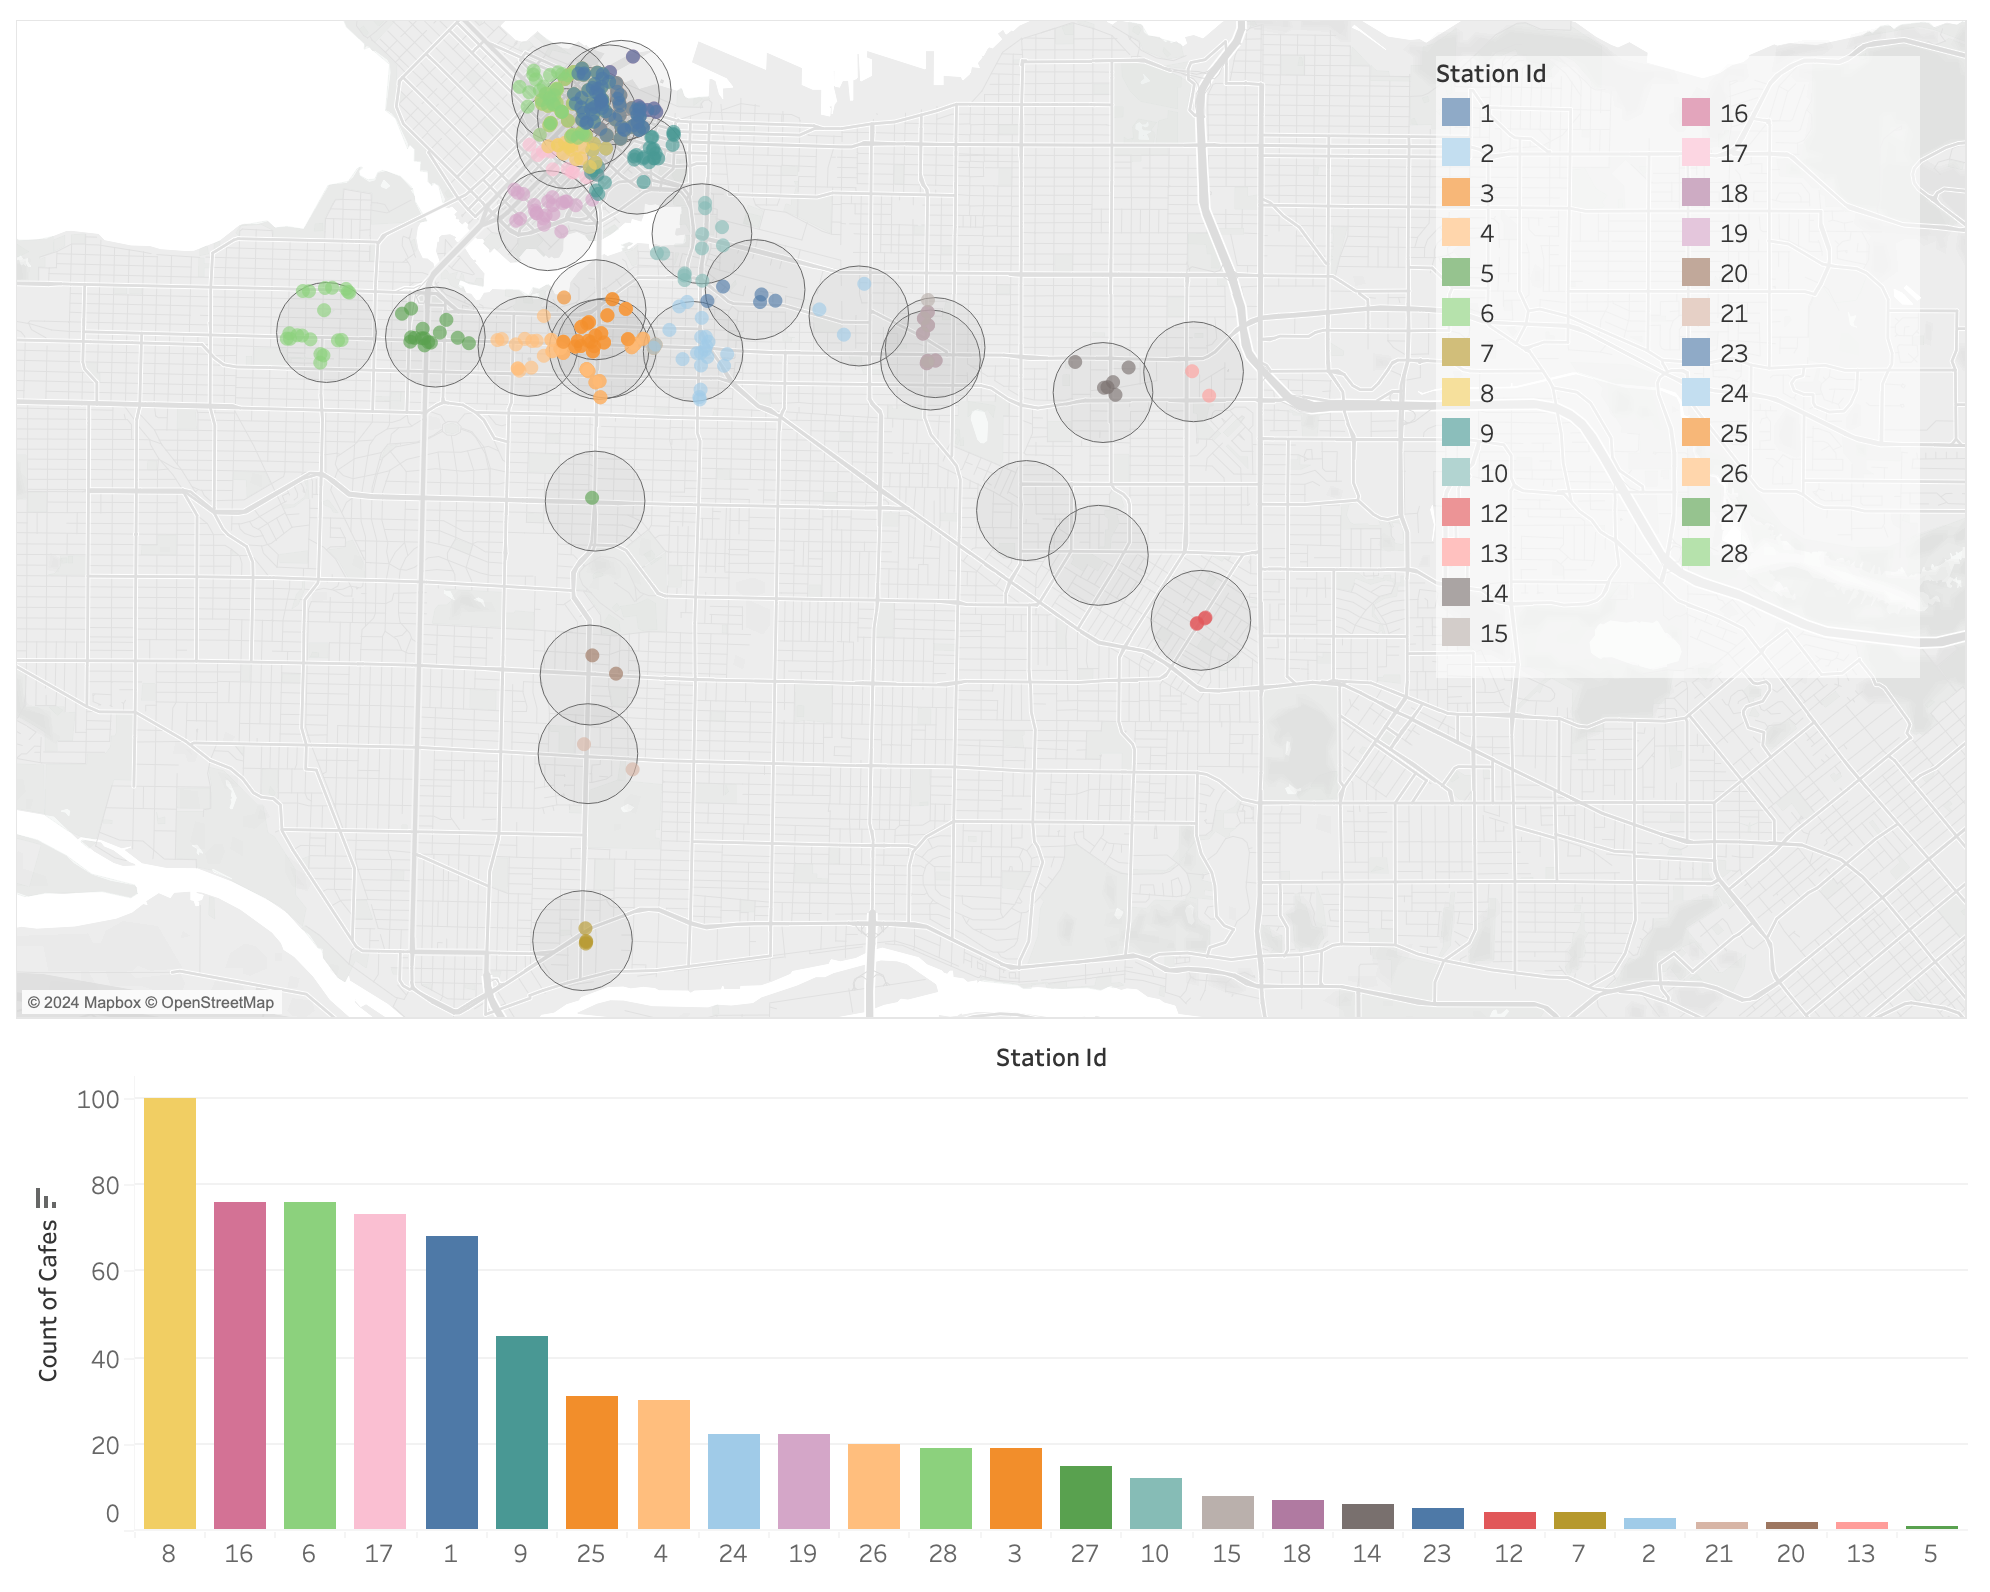

The page's visual inventory and layout, read from the dashboard file:
{"tool":"tableau","page":{"name":"demand/storefronts","canvas":[1000,800],"ordinal":7},"visuals":[{"type":"worksheet","title":"storefronts/map","mark":"Automatic","box":[8,8,984,513]},{"type":"worksheet","title":"storefronts/bar","mark":"Automatic","rows":["storefronts_count"],"cols":["station_id"],"box":[8,521,984,271]}]}

Visuals, with their boxes in screenshot pixels (x1, y1, x2, y2), scaled from the page's 1000x800 canvas onto the 1990x1592 screenshot:
"storefronts/map" worksheet: 16/16/1974/1037
"storefronts/bar" worksheet: 16/1037/1974/1576
